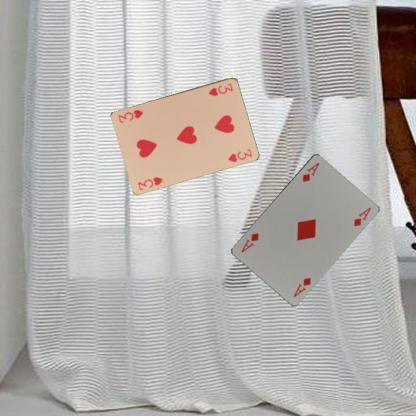3h: (135, 174, 164, 191), (206, 80, 234, 97)
Ad: (300, 160, 321, 183), (291, 275, 312, 298)
